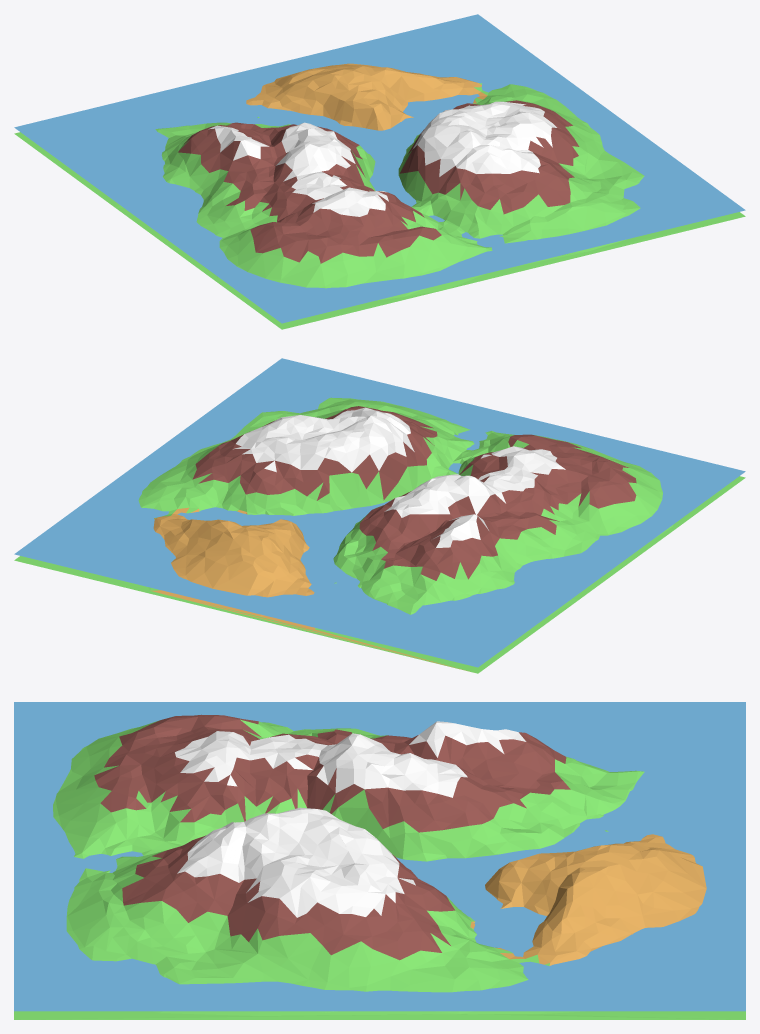
The model's file is sussyisland.fbx.
The picture shows the model from 3 angles, top to bottom: view 1: azimuth 30°, elevation 25°; view 2: azimuth 150°, elevation 25°; view 3: azimuth 270°, elevation 25°; orthographic projection. The views are drawn at different scales.
Parts seen in each view (by area): view 1: Landscape.001, Plane; view 2: Landscape.001, Plane; view 3: Landscape.001, Plane.
Part boxes in pixels (bbox=[...]): Landscape.001: bbox=[14, 63, 745, 329]; Plane: bbox=[14, 14, 745, 323]; Landscape.001: bbox=[14, 397, 745, 673]; Plane: bbox=[14, 358, 745, 667]; Landscape.001: bbox=[14, 714, 745, 1019]; Plane: bbox=[14, 702, 745, 1011].
Size of the model in its own units: 200 by 30.77 by 200.
